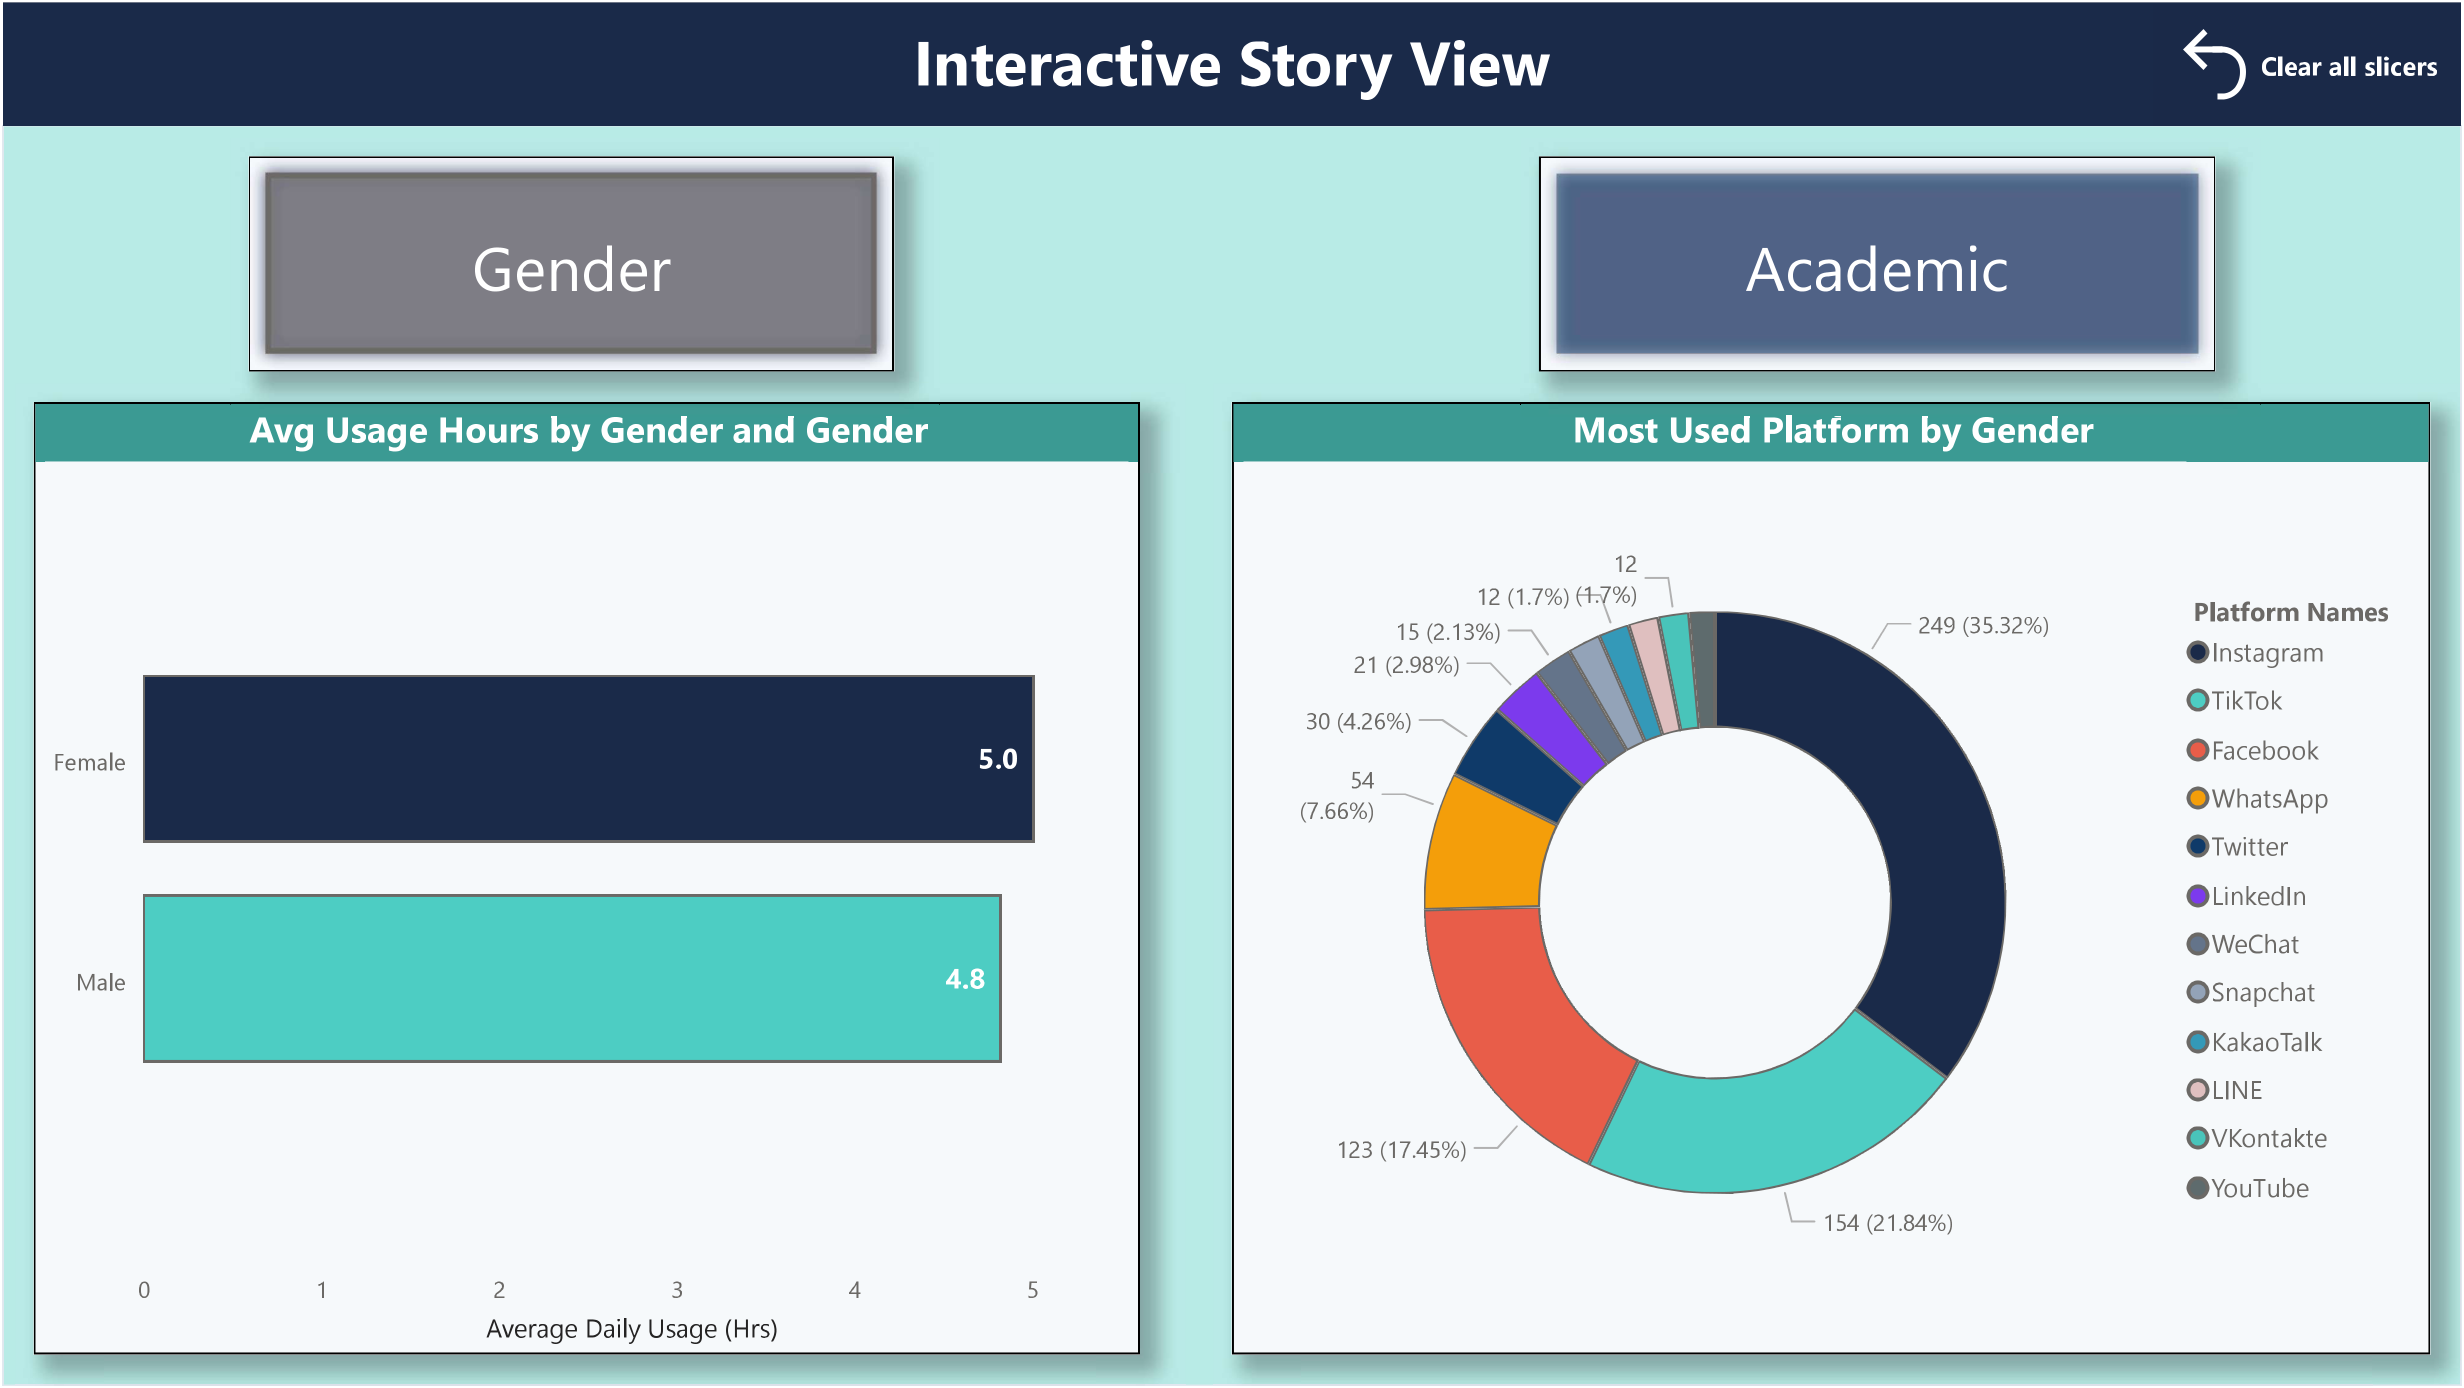

Layout of this report page (visuals, bound fields, positions):
{"tool":"powerbi","page":{"name":"Interactive Story View ","canvas":[1280,720],"ordinal":5},"visuals":[{"type":"shape","box":[0,64,1280,656],"z":0},{"type":"barChart","fields":{"Y":["Student Details.Avg Usage Hours"],"Category":["Student Details.Gender"],"Series":["Student Details.Gender"]},"box":[16,208,576,496],"z":1000},{"type":"donutChart","title":"Most Used Platform by Gender","fields":{"Category":["Platform Details.Most_Used_Platform"],"Y":["CountNonNull(Student Details.Gender)"]},"box":[640,208,624,496],"z":2000},{"type":"actionButton","box":[128,80,336,112],"z":5000},{"type":"actionButton","box":[800,80,352,112],"z":6000},{"type":"shape","box":[0,0,1280,64],"z":7000},{"type":"textbox","box":[464,0,352,64],"z":8000},{"type":"actionButton","box":[1120,0,160,64],"z":9000}]}

Visuals, with their boxes in screenshot pixels (x1, y1, x2, y2), scaled from the page's 1280x720 canvas onto the 2464x1388 screenshot:
shape: 0 123 2463 1387
barChart - Student Details.Avg Usage Hours x Student Details.Gender: 31 401 1140 1357
"Most Used Platform by Gender" donutChart: 1232 401 2433 1357
actionButton: 246 154 893 370
actionButton: 1540 154 2218 370
shape: 0 0 2463 123
textbox: 893 0 1571 123
actionButton: 2156 0 2463 123
